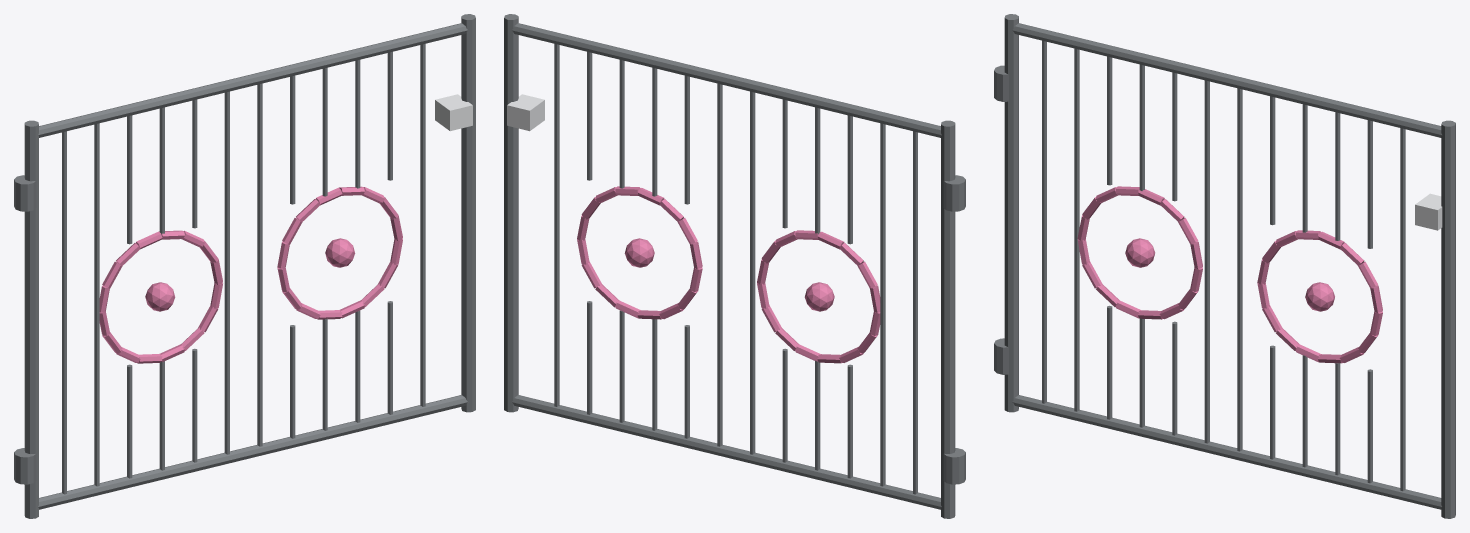
Rendered from gate.glb.
3 views of the same model, side by side, from view 1: azimuth 30°, elevation 25°; view 2: azimuth 150°, elevation 25°; view 3: azimuth 330°, elevation 25° (orthographic).
Parts seen in each view (by area): view 1: gate_steel_d, gate_accent, gate_chrome; view 2: gate_steel_d, gate_accent, gate_chrome; view 3: gate_steel_d, gate_accent, gate_chrome.
Part boxes in pixels (x1,y1,x2,y2): gate_steel_d: (14,14,475,518); gate_accent: (99,186,402,363); gate_chrome: (435,94,472,131); gate_steel_d: (504,14,965,518); gate_accent: (577,186,880,363); gate_chrome: (507,94,544,131); gate_steel_d: (994,14,1455,518); gate_accent: (1077,186,1382,363); gate_chrome: (1415,193,1442,230).
Size of the model in its own units: 1.41 by 1.15 by 0.08.
